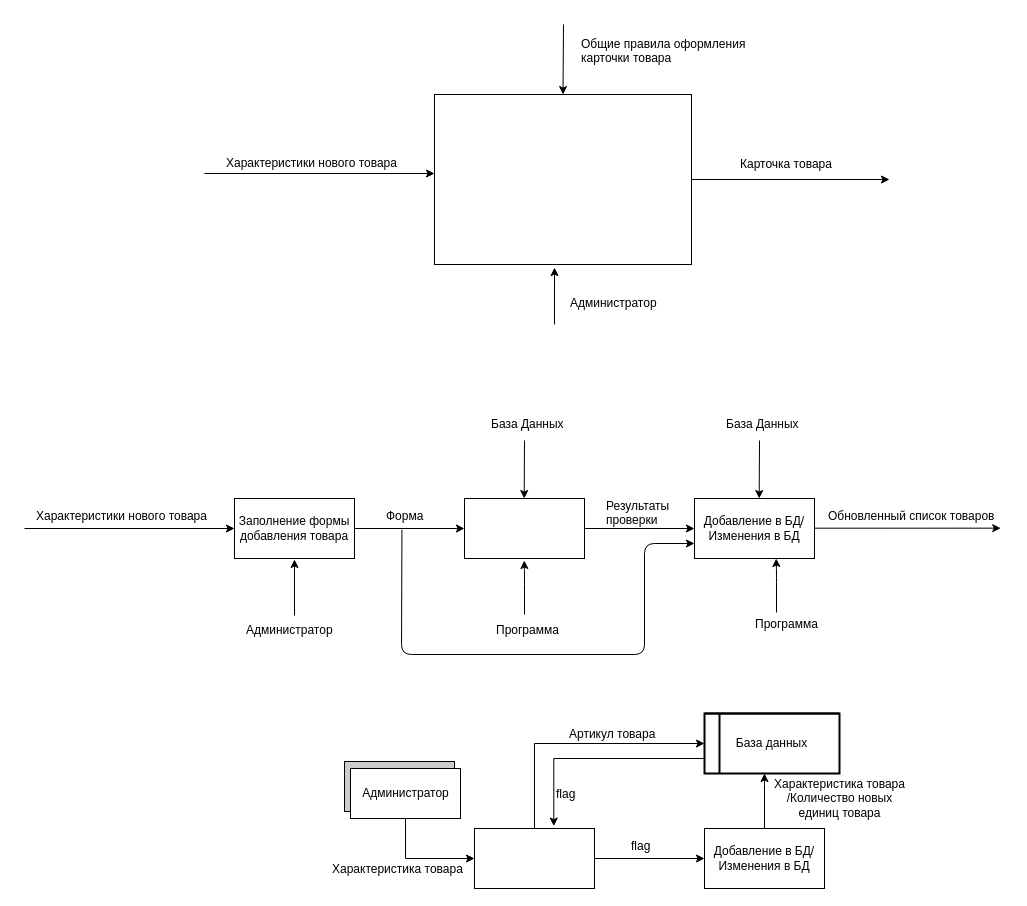
Some shapes in this 1027 by 906 pixel diagram are drawn without their labels. The shapes that lost their labels are listed below. From the top down, each one's centre as x and y in pixels, then its label:
At (563,179): "Добавление новых товаров на сайт".
At (524,528): "Проверка на существование данного товара в БД".
At (534,858): "Проверить на существование данного товара в БД".
